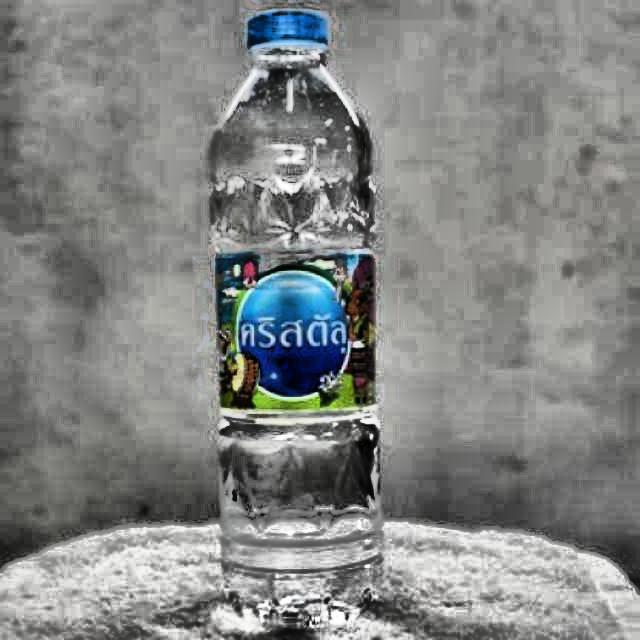Bottles: (201, 4, 399, 640)
